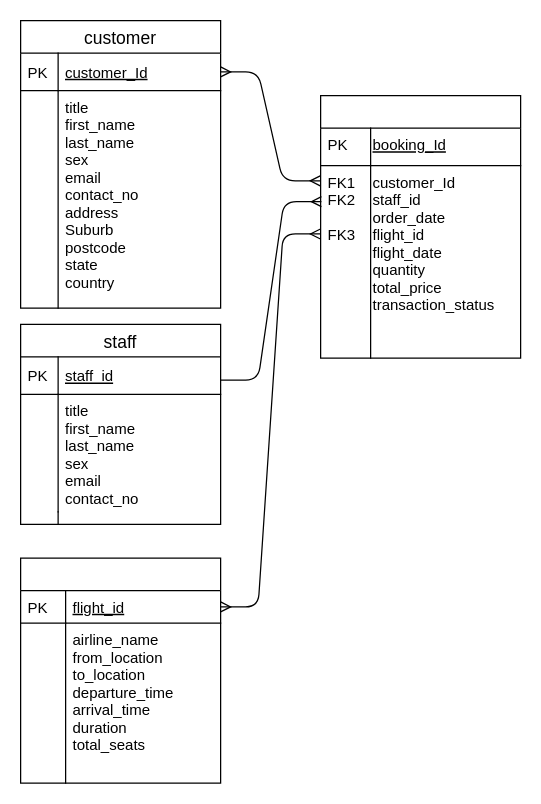
Image size: 541x804. Some labels were removed from this diagram. Here are the shapes that lost their labels. From the top down, the box of each, then its label:
(319, 94, 521, 358): itinerary
(19, 557, 221, 783): flights
